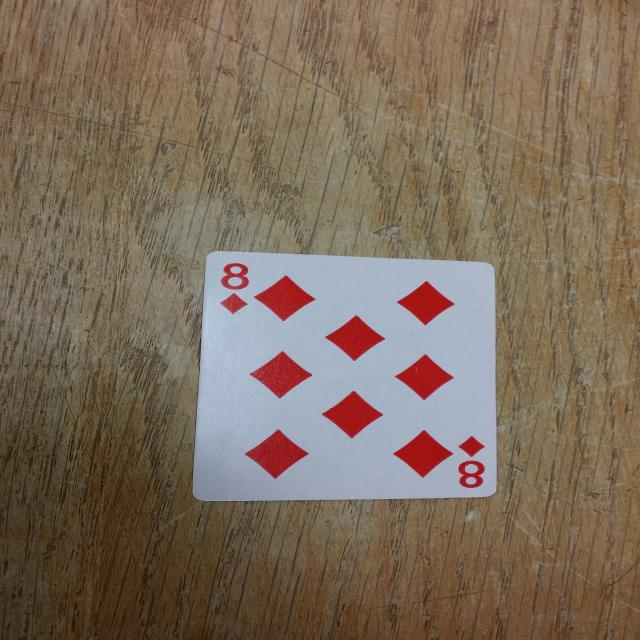8d: (210, 255, 263, 320), (440, 434, 494, 494)
